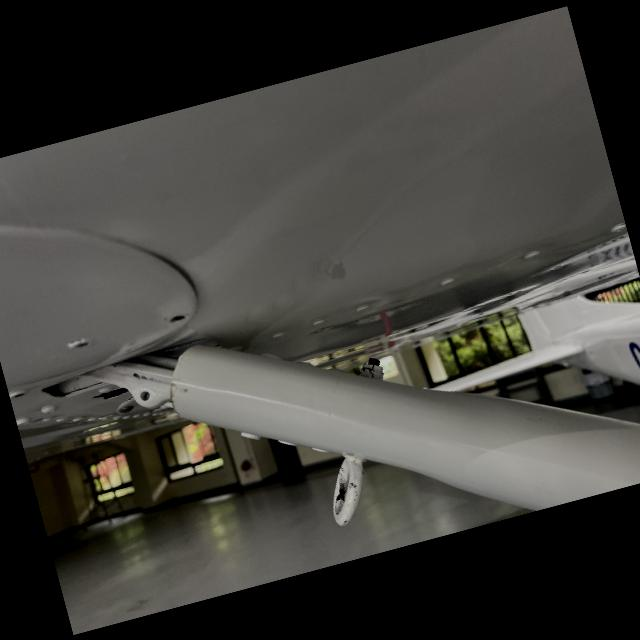Missing Fastener: (161, 308, 190, 328)
